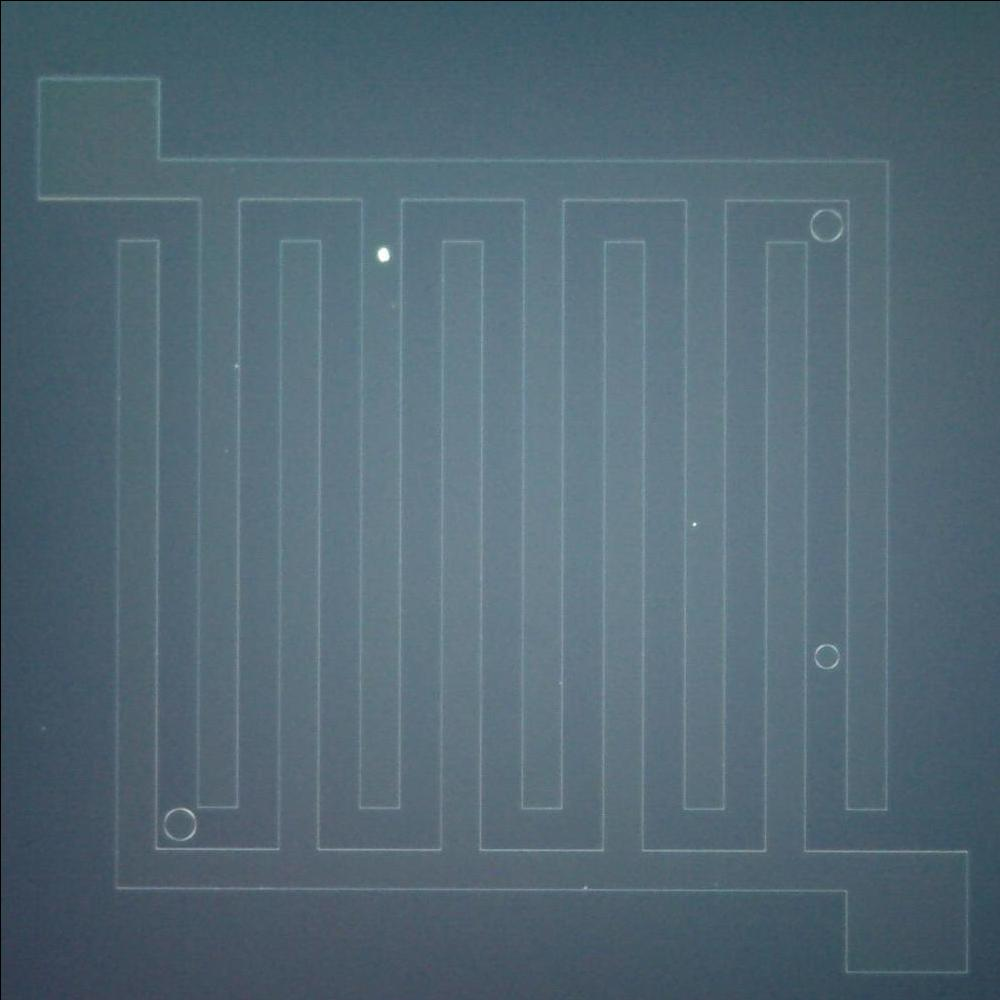circle: (158, 802, 199, 843), (806, 205, 845, 246), (809, 639, 844, 671)
dot: (681, 508, 708, 536)
spot: (366, 238, 397, 269)
